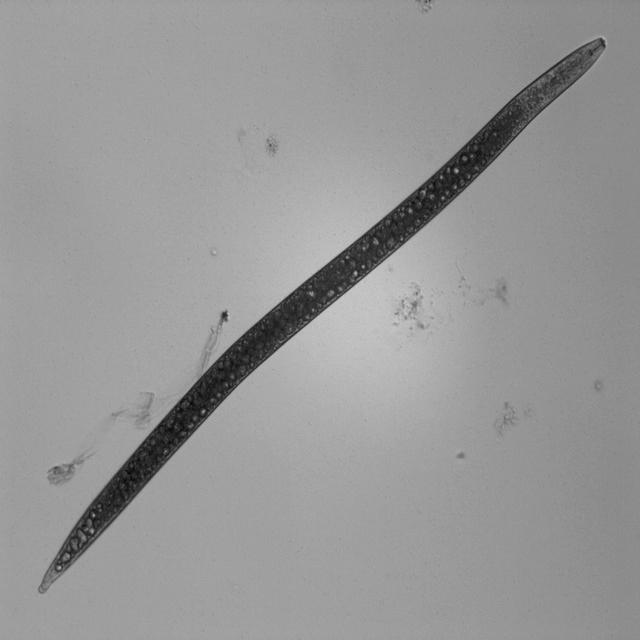Radopholus: (32, 27, 613, 595)
